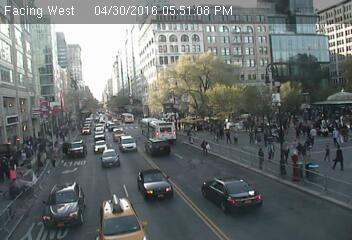neg: (107, 162, 134, 198), (87, 149, 110, 180), (147, 161, 166, 186), (115, 117, 134, 142), (106, 132, 122, 154), (140, 122, 156, 142)
pos: (330, 144, 350, 171), (251, 144, 269, 168), (241, 127, 258, 149), (196, 138, 212, 160), (250, 125, 265, 145), (320, 144, 334, 162), (287, 149, 301, 167), (232, 127, 244, 142)
